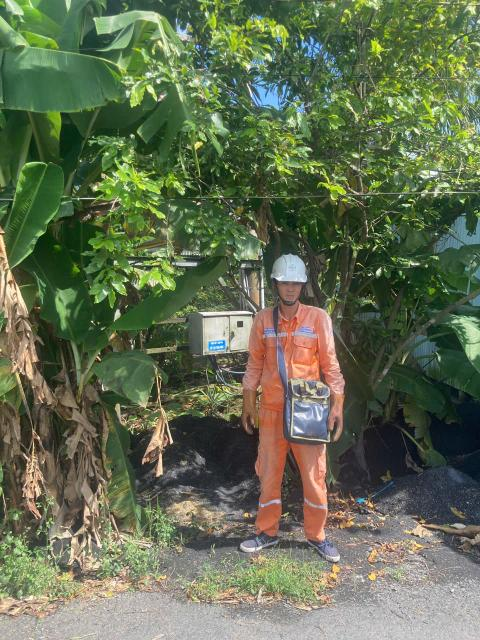gloves: (239, 390, 278, 451), (325, 383, 358, 444)
helmet: (269, 244, 308, 288)
shoes: (217, 505, 288, 560), (308, 523, 347, 577)
